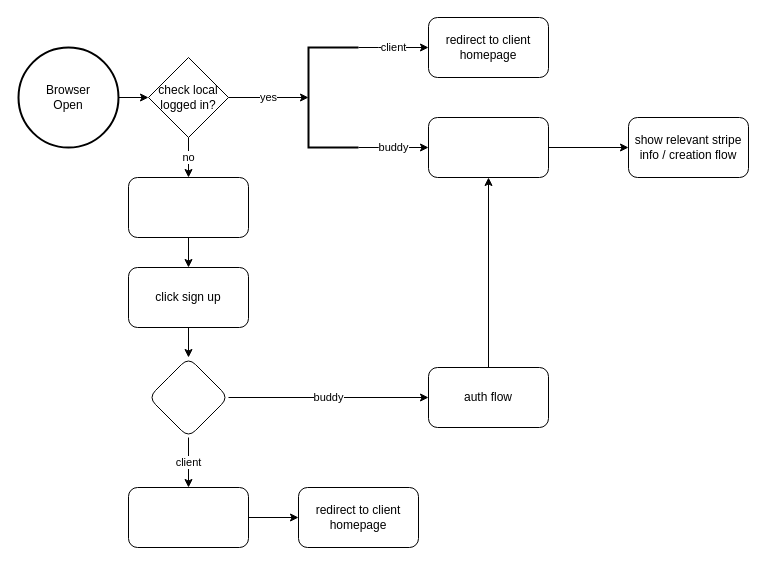
This 766x565 diagram has some shape labels left out. Each missing label, with the centre of its shape:
account type?: point 188,397
just regular auth flow: point 188,517
redirect to buddy dashboard: point 488,147
show landing page: point 188,207
